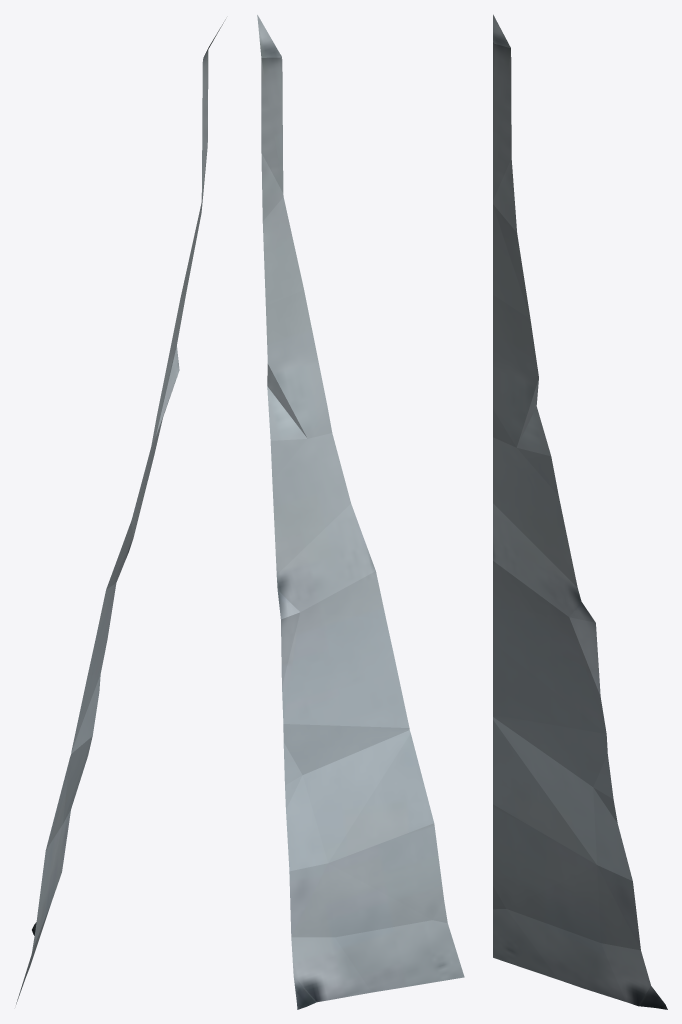
3 views of the same model, side by side, from view 1: azimuth 30°, elevation 25°; view 2: azimuth 150°, elevation 25°; view 3: azimuth 270°, elevation 25° (orthographic). The views are drawn at different scales.
Size of the model in its own units: 0.7492 by 3.15 by 0.4701.
1 material, 1 textured.
